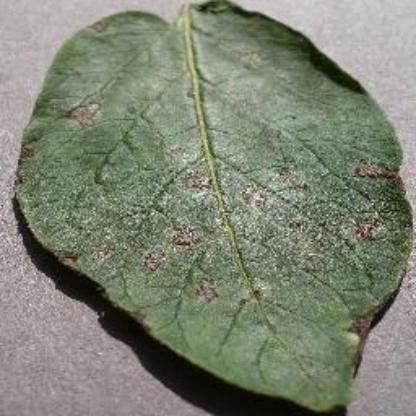Early-Blight: (13, 3, 407, 411)
